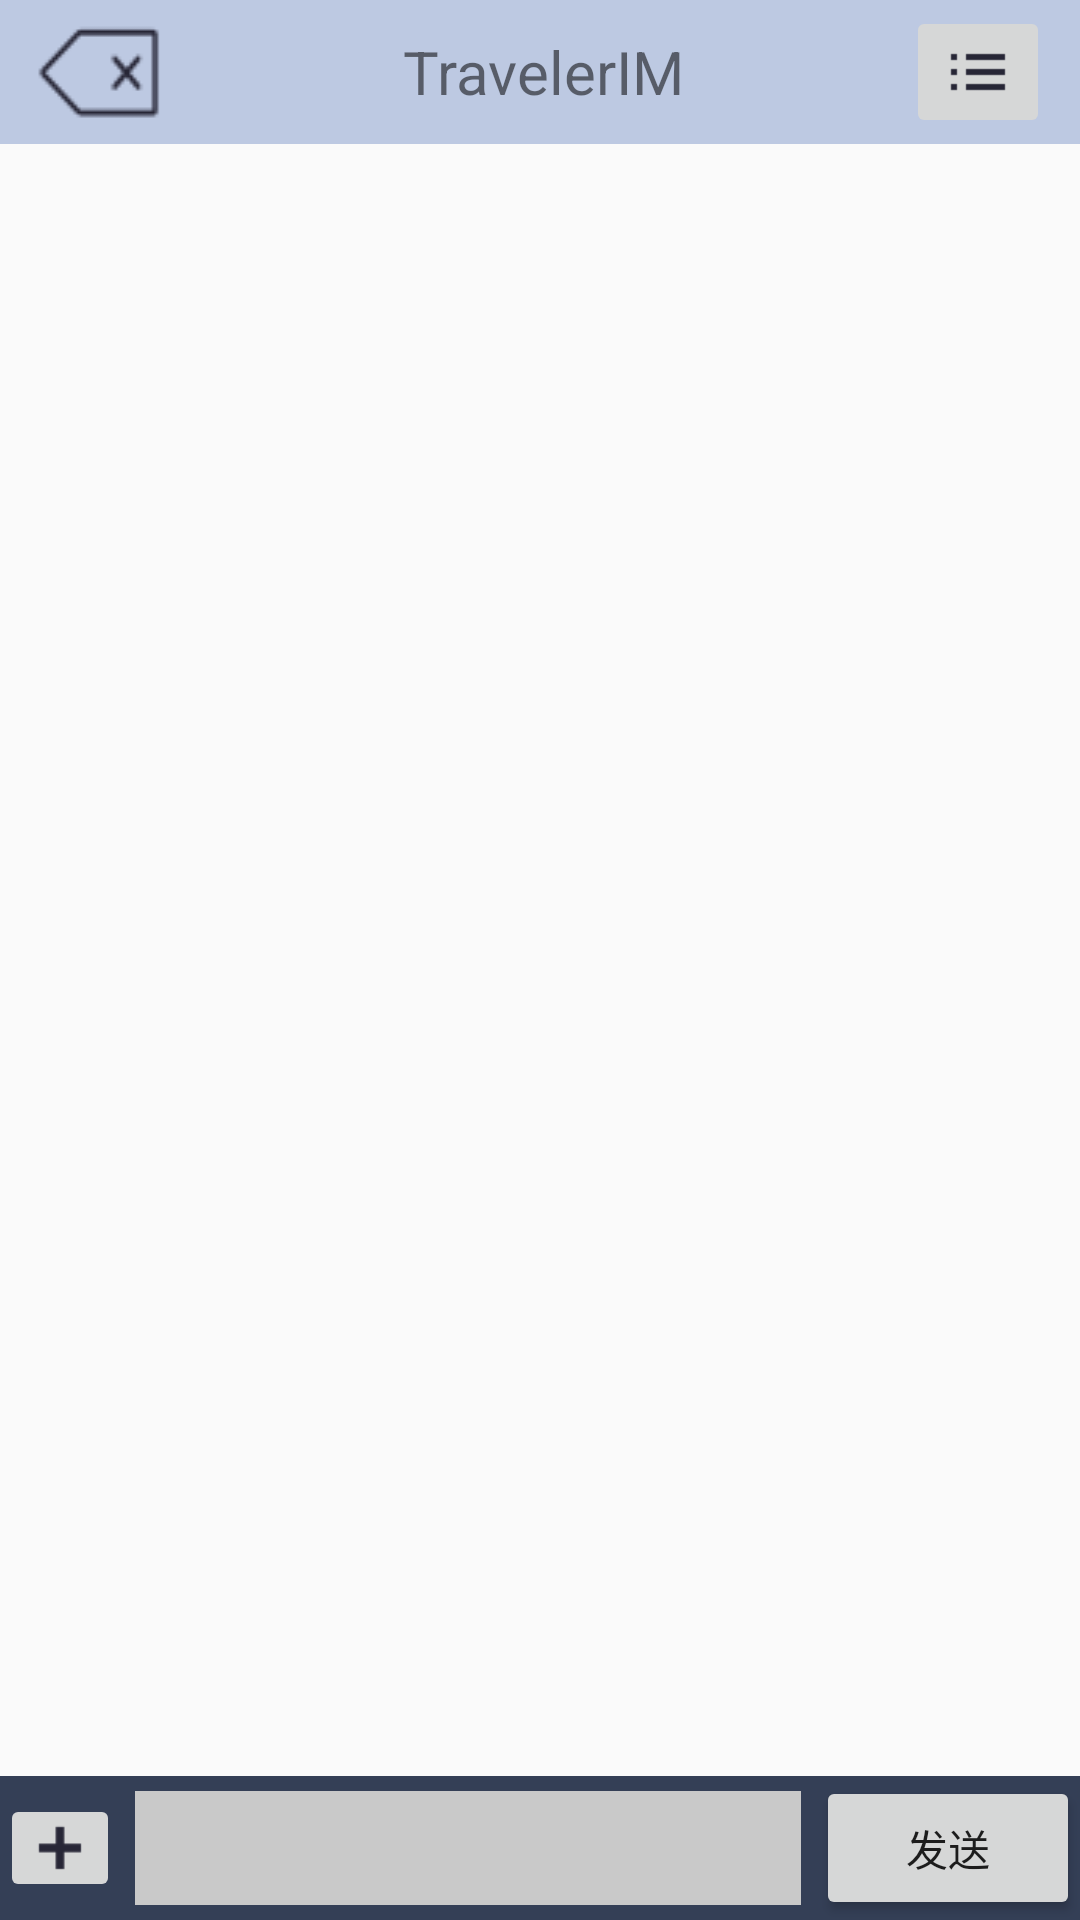

Icon bounding boxes for this 1080px×1920px phone screenshot, format {"left": x1, "top": y1, "right": x2, "bottom": y2}:
back: {"left": 39, "top": 29, "right": 159, "bottom": 118}
expend: {"left": 12, "top": 1812, "right": 108, "bottom": 1884}
more: {"left": 918, "top": 24, "right": 1038, "bottom": 120}
